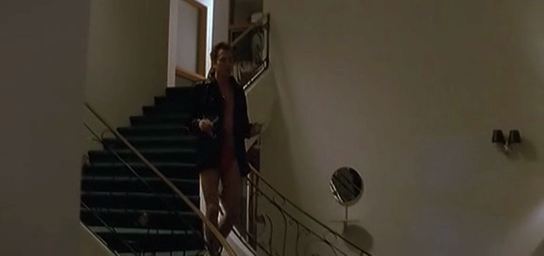face: (216, 48, 235, 78)
ls: (1, 1, 544, 256)
person: (193, 42, 265, 256)
